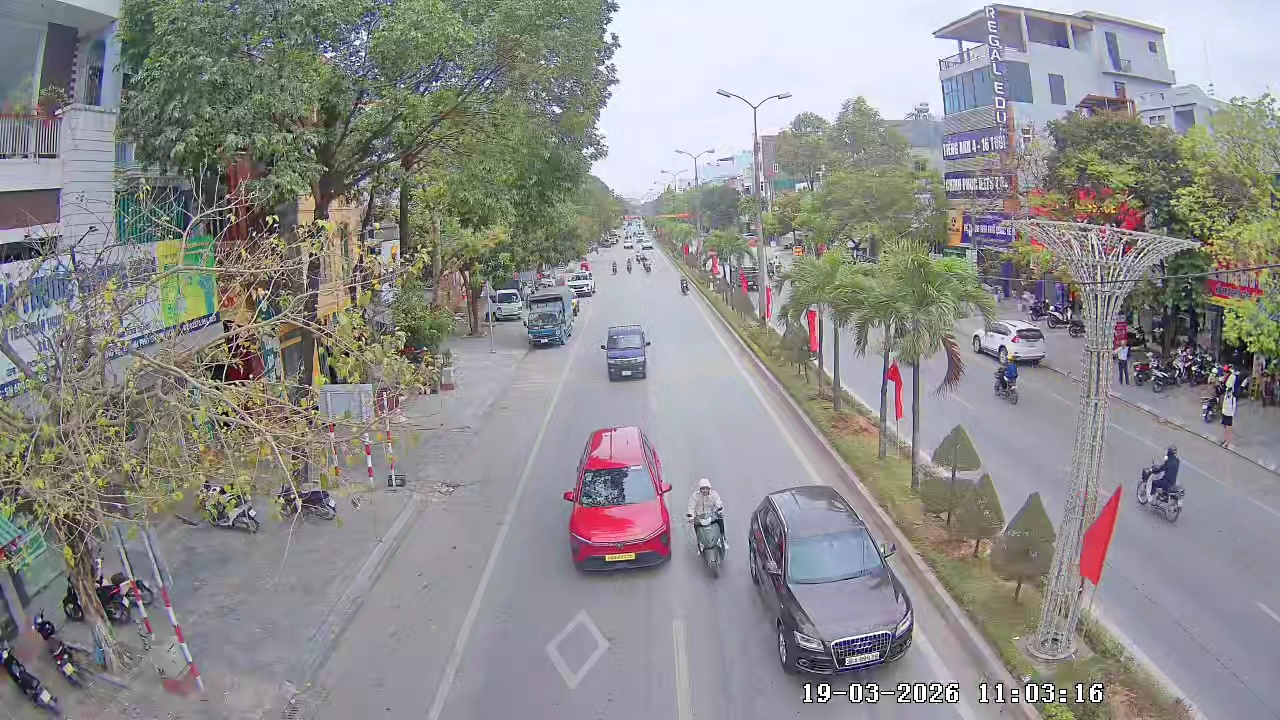car: (747, 484, 917, 678), (562, 424, 673, 574), (974, 321, 1040, 361)
motorbike: (684, 476, 732, 579), (1135, 442, 1188, 525), (996, 354, 1021, 404), (679, 276, 694, 297), (608, 260, 622, 279)
truck: (600, 321, 652, 382), (523, 290, 573, 349)
